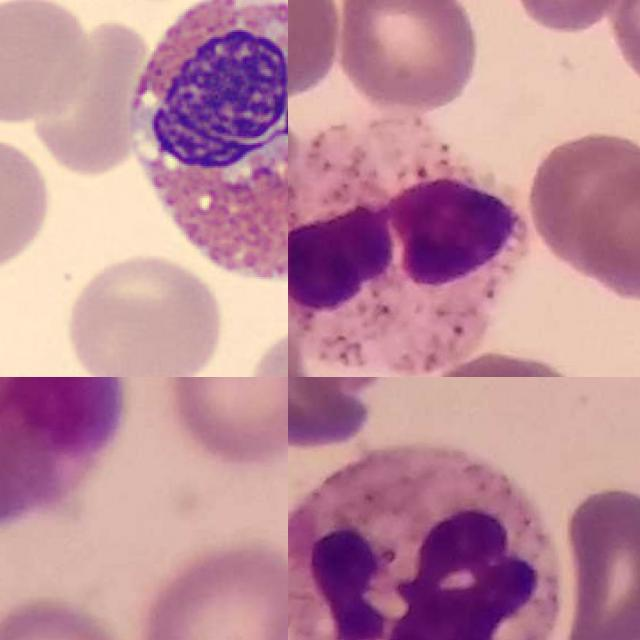Eosinophil: (109, 0, 288, 301), (0, 377, 122, 527)
Neutrophil: (288, 114, 521, 377), (288, 446, 563, 640)
RBC: (60, 250, 227, 377), (0, 0, 95, 130), (0, 130, 56, 277)
